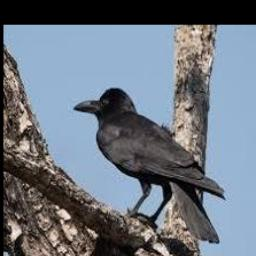Crow: (71, 87, 225, 245)
